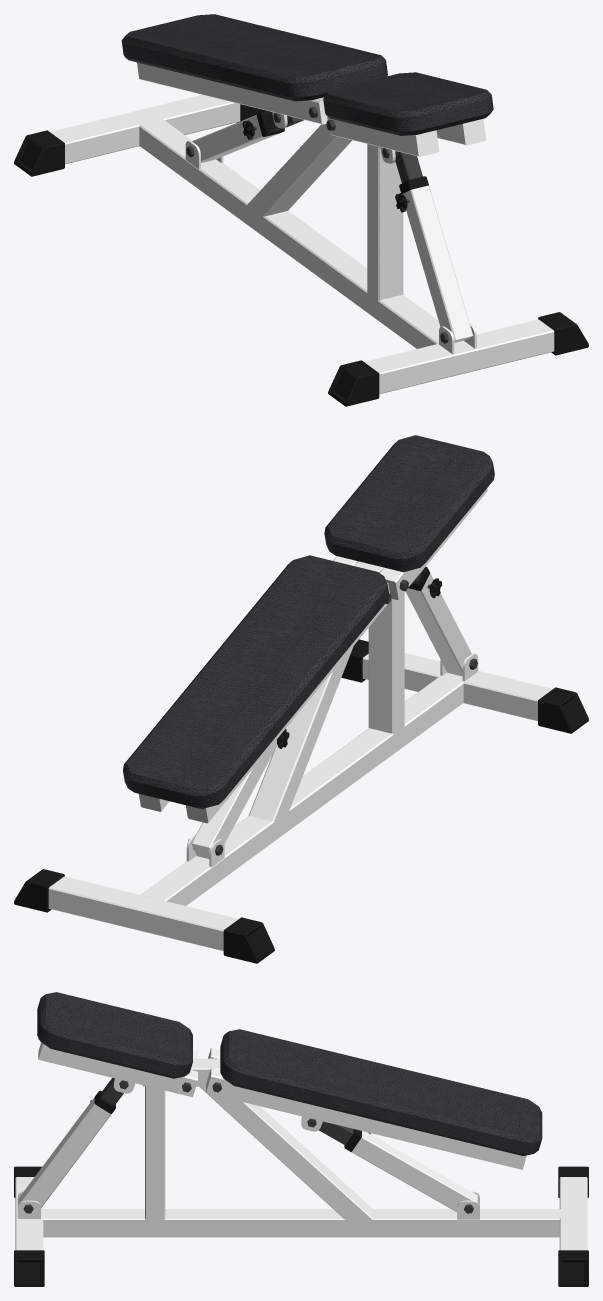
Rendered from Bench_1.FBX.
3 views of the same model, one above another, from view 1: azimuth 30°, elevation 25°; view 2: azimuth 150°, elevation 25°; view 3: azimuth 270°, elevation 25° (orthographic). The views are drawn at different scales.
Parts seen in each view (by area): view 1: Bench_1; view 2: Bench_1; view 3: Bench_1.
Boxes of the visible parts, <box> form: Bench_1: <box>14,14,588,406</box>; Bench_1: <box>14,435,588,963</box>; Bench_1: <box>14,992,588,1286</box>.
Size of the model in its own units: 0.5793 by 1.36 by 0.594.
